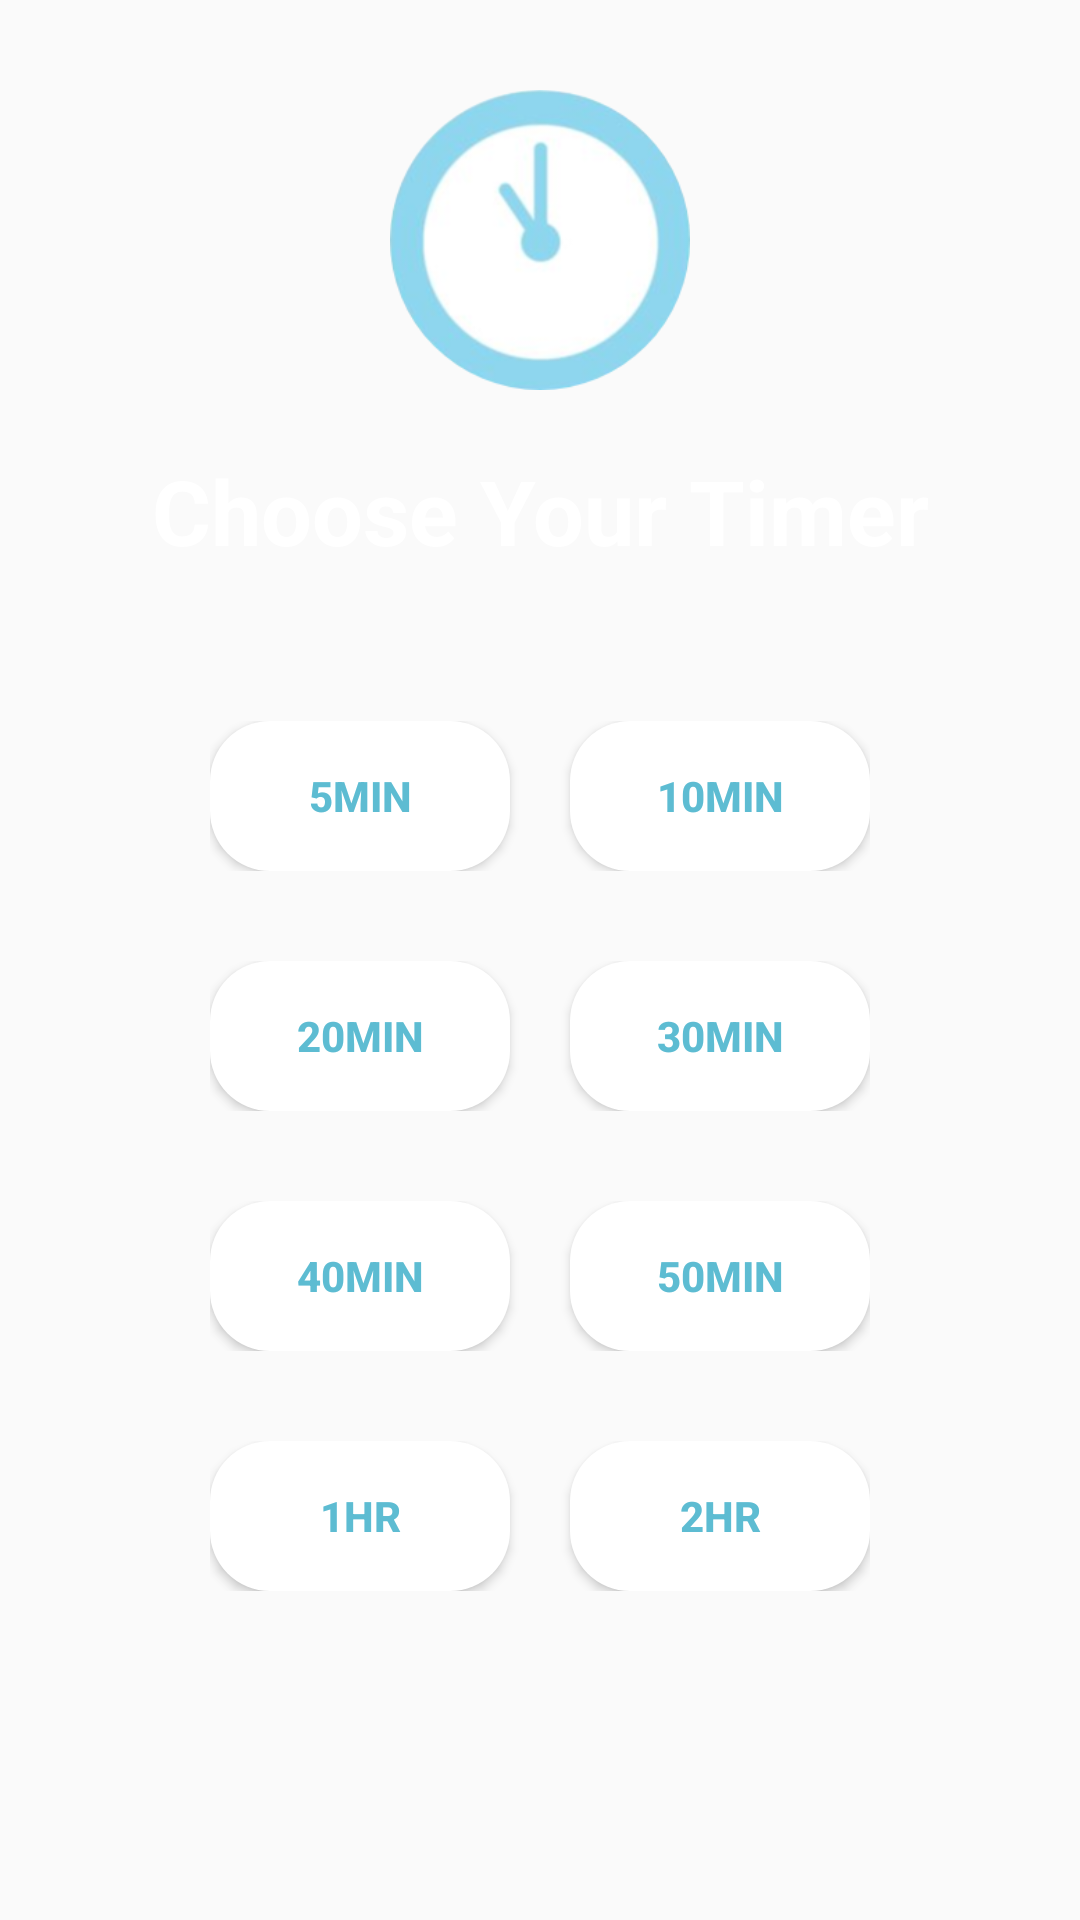

Screen size 1080 x 1920. Icon name, then its center in pixels as (x,y):
watch: (540,240)
